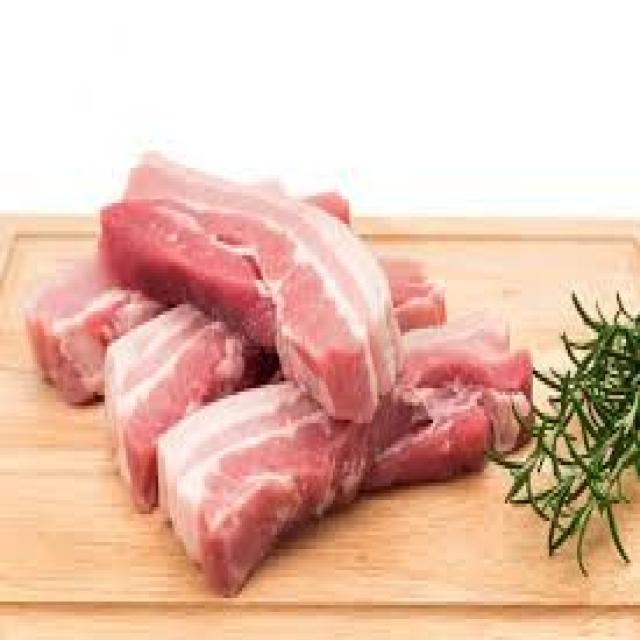Pork: (101, 160, 531, 593)
